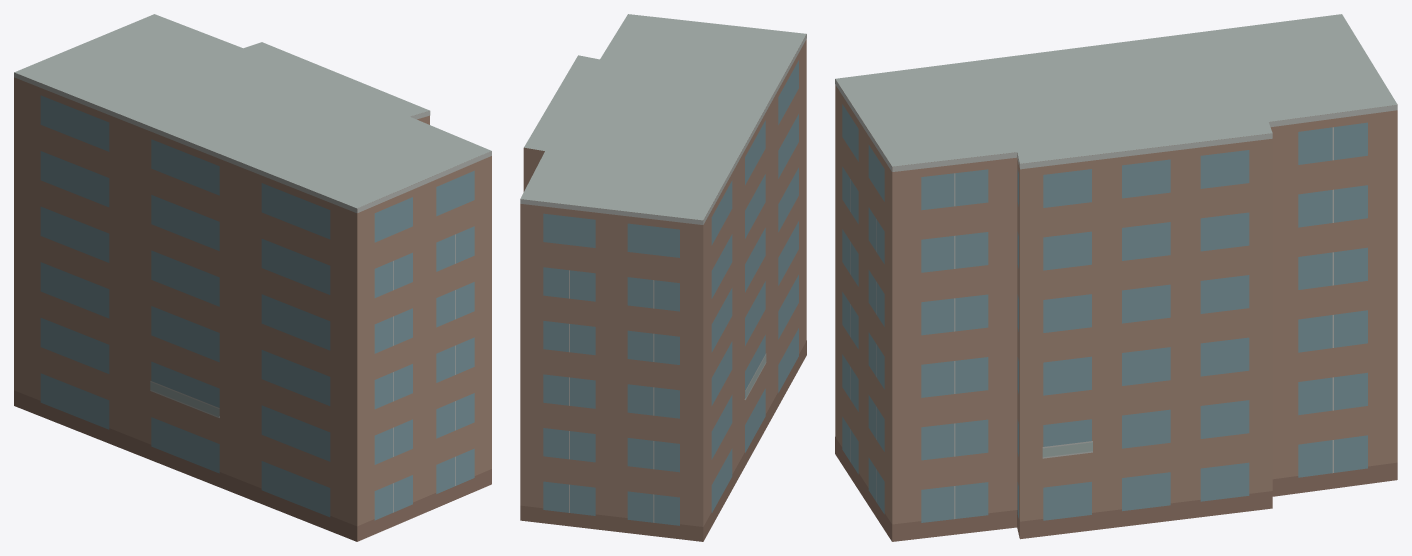
The model's file is survey-upis-32568295.glb.
The picture shows the model from 3 angles, left to right: view 1: azimuth 30°, elevation 25°; view 2: azimuth 150°, elevation 25°; view 3: azimuth 270°, elevation 25°; orthographic projection. The views are drawn at different scales.
Parts seen in each view (by area): view 1: survey-upis-32568295.tmp; view 2: survey-upis-32568295.tmp; view 3: survey-upis-32568295.tmp.
Boxes of the visible parts, <box> form: survey-upis-32568295.tmp: <box>14,14,491,541</box>; survey-upis-32568295.tmp: <box>520,14,806,541</box>; survey-upis-32568295.tmp: <box>835,14,1397,541</box>.
Bounding box in the file's own units: 14.49 × 16.6 × 22.56.
